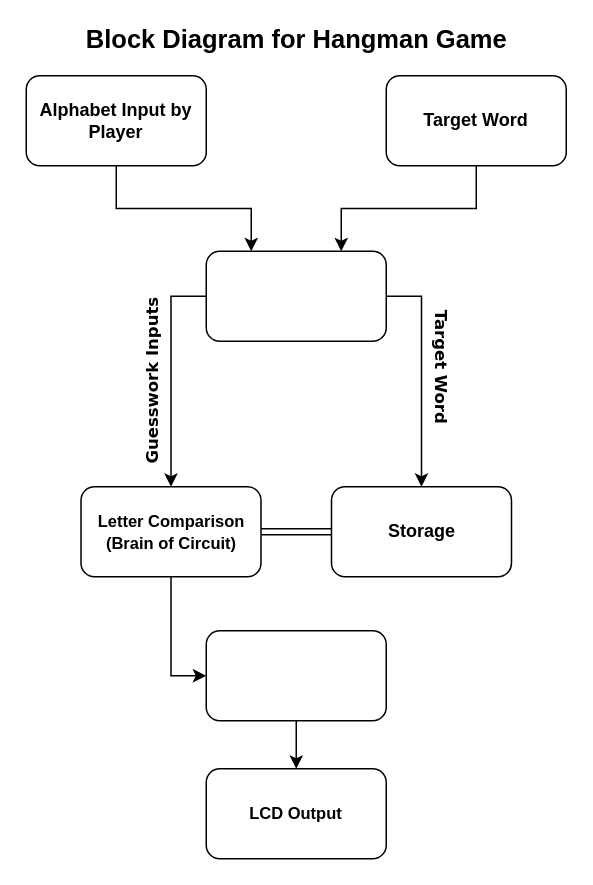
This 593x885 diagram has some shape labels left out. The centre of each missing label's shape, as x and y in pixels:
"Encoder" belongs at point (295, 295).
"Microcontroller" belongs at point (295, 675).
